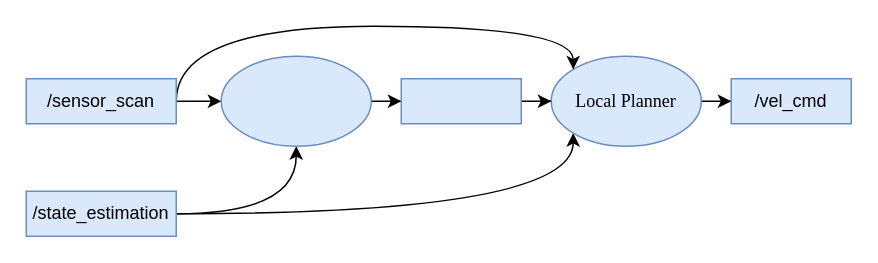
Image size: 878x263. Some labels were removed from this diagram. The centre of each missing label's shape, as x and y in pixels:
"/way_point" belongs at [460,100].
"Global Planner" belongs at [295,100].
